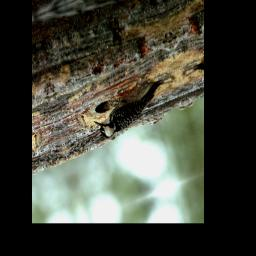Woodpecker: (86, 67, 178, 148)
